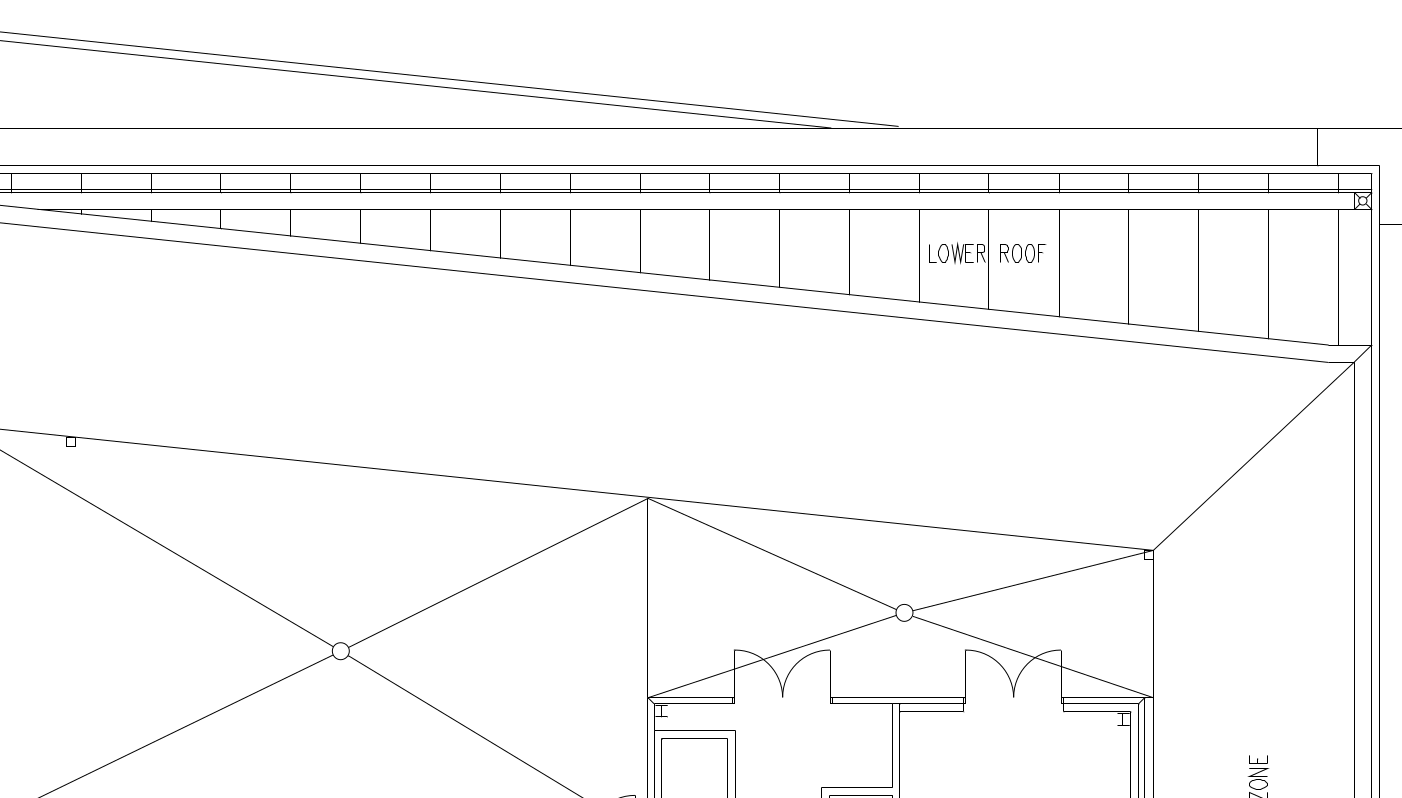door: (728, 638, 783, 710), (780, 639, 835, 711), (960, 644, 1015, 716)
